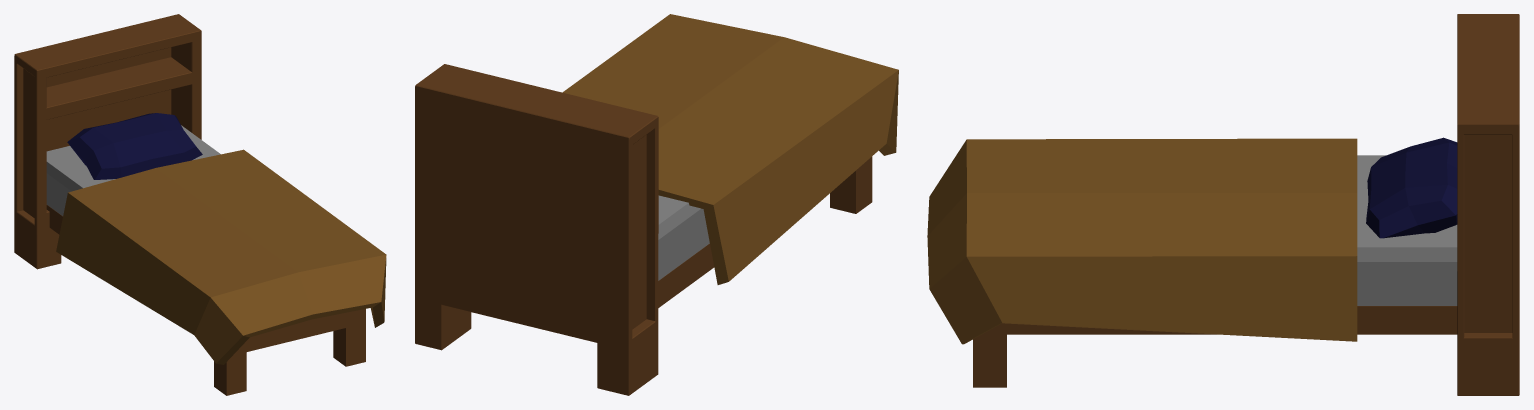
The model's file is SingleBed1.glb.
3 renders of one model, left to right at view 1: azimuth 30°, elevation 25°; view 2: azimuth 150°, elevation 25°; view 3: azimuth 270°, elevation 25°, orthographic. The views are drawn at different scales.
Visible parts, largest first — view 1: Blanket1_SingleBed1, SingleBed1, Pillow1_SingleBed1; view 2: SingleBed1, Blanket1_SingleBed1; view 3: Blanket1_SingleBed1, SingleBed1, Pillow1_SingleBed1.
Part boxes in pixels (box(x1,y1,x2,y2)): Blanket1_SingleBed1: box(56, 149, 386, 364); SingleBed1: box(14, 14, 365, 395); Pillow1_SingleBed1: box(67, 113, 202, 179); SingleBed1: box(415, 64, 872, 395); Blanket1_SingleBed1: box(562, 14, 898, 284); Blanket1_SingleBed1: box(927, 138, 1357, 344); SingleBed1: box(973, 14, 1519, 395); Pillow1_SingleBed1: box(1366, 137, 1457, 238).
Bounding box in the file's own units: 1.44 × 1.38 × 2.71.
